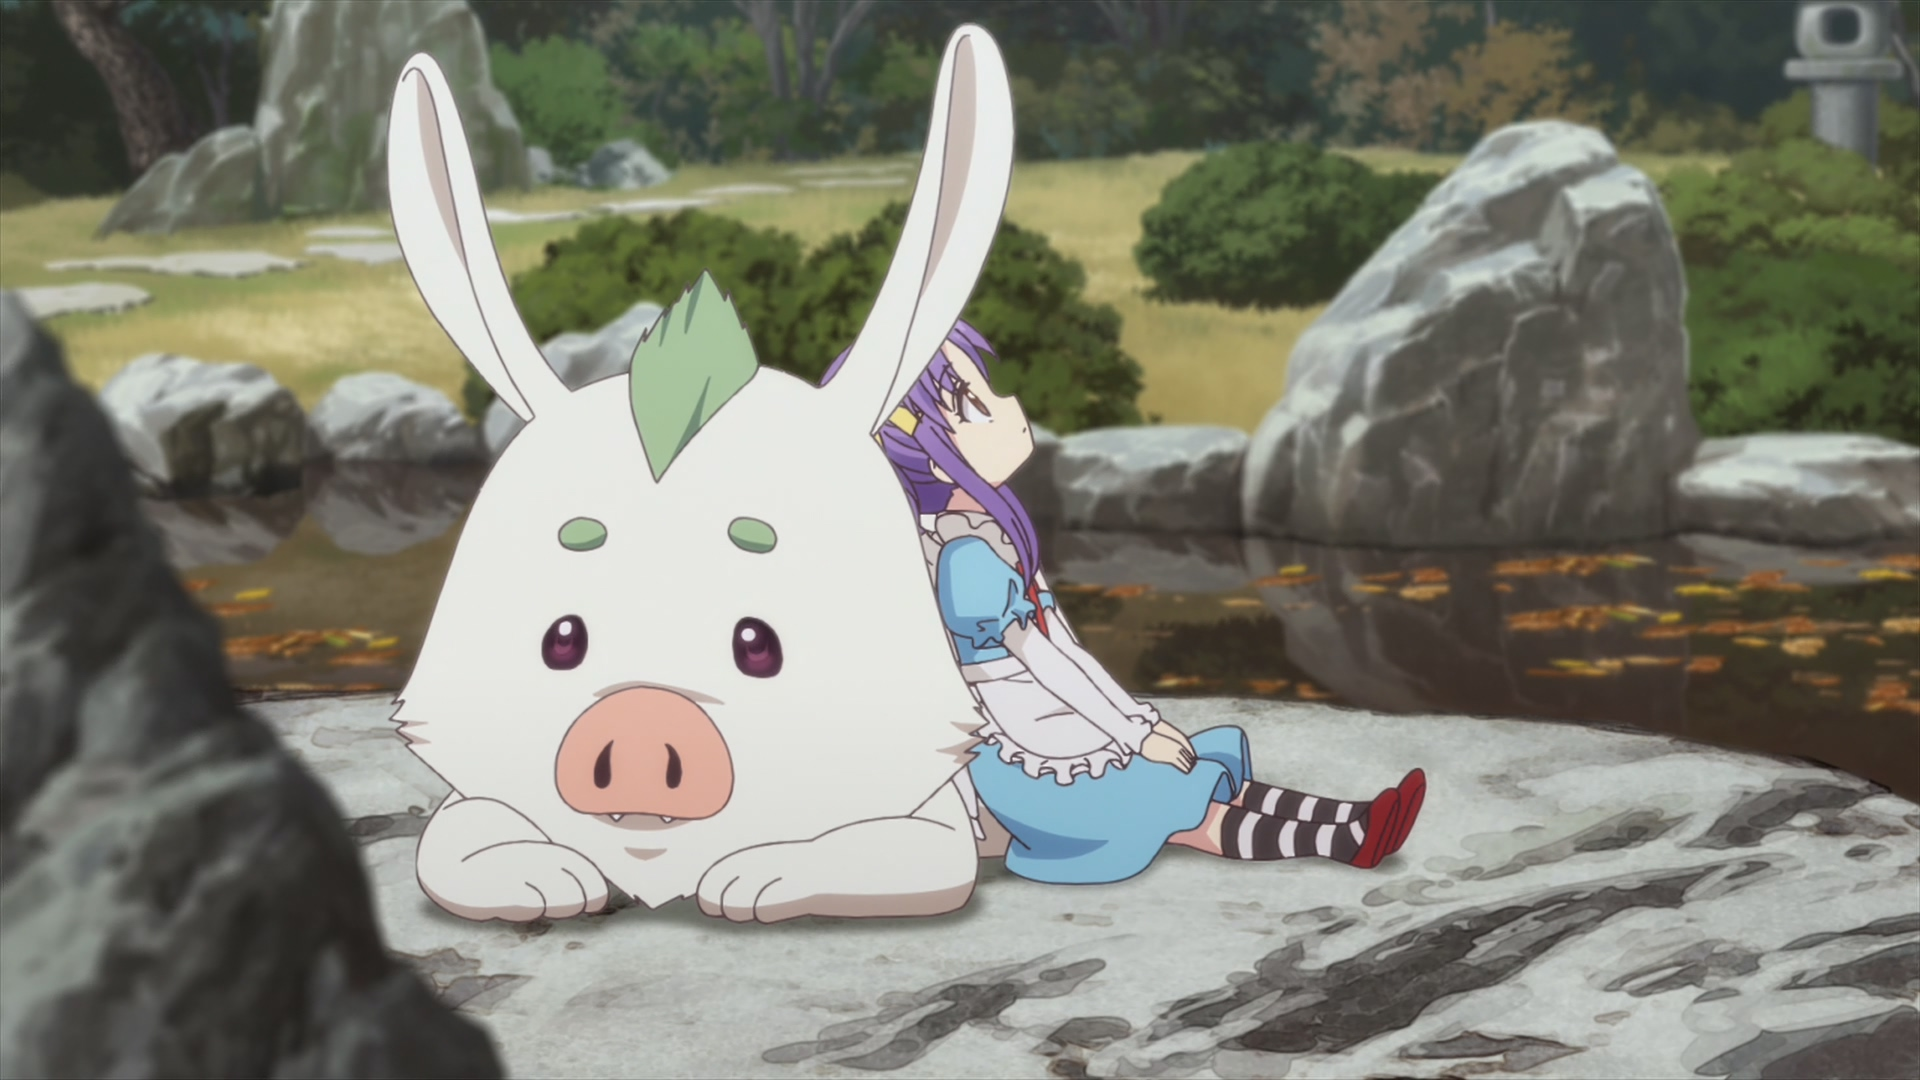瓜之介: (386, 22, 1011, 926)
阿菊: (822, 315, 1427, 885)
